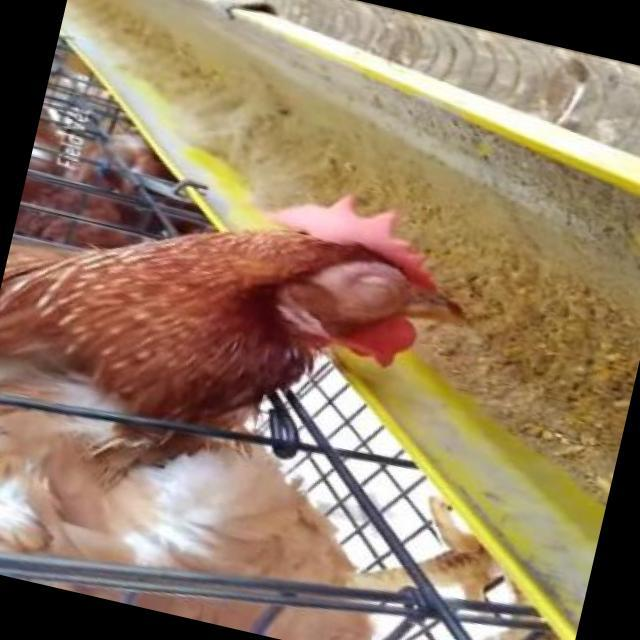Coryza: (328, 253, 406, 321)
